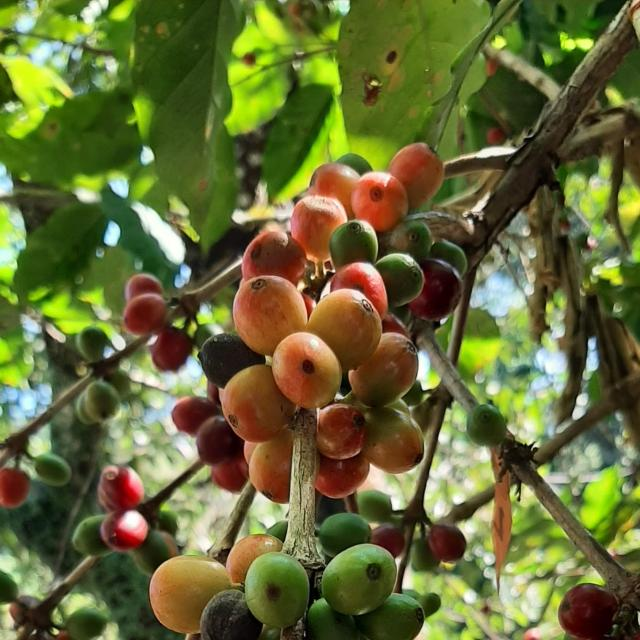green: (322, 545, 397, 617), (245, 553, 309, 630), (355, 594, 425, 640), (375, 253, 425, 308), (329, 219, 378, 270), (318, 513, 372, 558), (390, 220, 433, 261), (467, 405, 508, 447), (71, 515, 110, 558), (84, 381, 120, 422), (430, 241, 469, 275), (74, 327, 108, 363), (34, 454, 71, 487), (357, 491, 393, 524), (335, 152, 373, 175), (104, 370, 130, 399), (74, 392, 96, 425)
red: (198, 333, 265, 389), (408, 258, 462, 322), (559, 584, 619, 640), (331, 262, 388, 318), (196, 416, 243, 466), (97, 466, 143, 513), (99, 510, 148, 553), (122, 293, 166, 336), (171, 397, 219, 436), (150, 328, 192, 371), (428, 524, 467, 563), (211, 456, 249, 493), (0, 468, 29, 509), (372, 525, 405, 559), (124, 273, 162, 301)
yellow: (149, 556, 232, 635), (307, 289, 383, 372), (233, 275, 308, 356), (221, 365, 297, 443), (273, 332, 342, 410), (349, 333, 419, 407), (362, 407, 425, 474), (290, 195, 348, 263), (388, 142, 445, 210), (241, 231, 307, 285), (351, 171, 409, 231), (249, 429, 294, 504), (308, 162, 361, 218), (226, 535, 282, 584), (317, 404, 366, 460), (315, 454, 370, 499)
